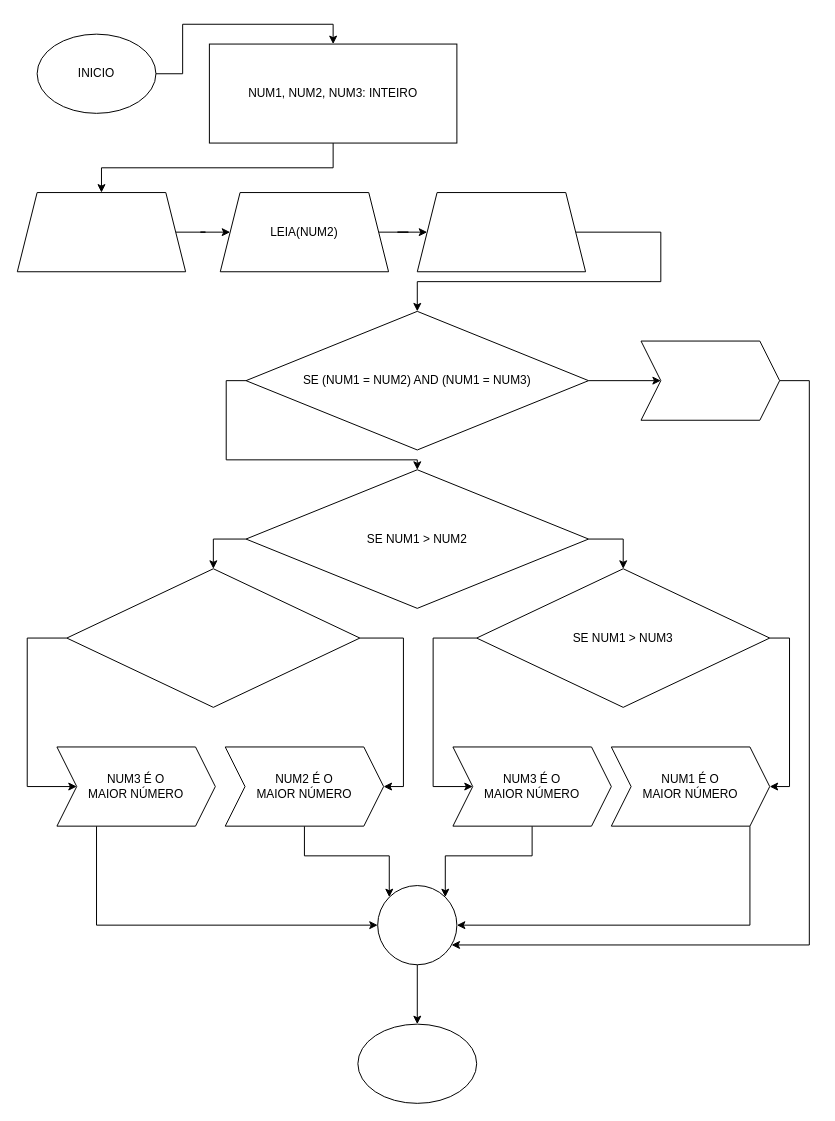
The diagram is 835 pixels wide and 1121 high, and some of its shapes have lost their labels. Each missing label, with the box of its shape:
FIM: (357, 1023, 477, 1103)
LEIA(NUM1): (16, 192, 186, 272)
LEIA(NUM3): (416, 192, 586, 272)
OS NÚMEROS SÃO IGUAIS: (640, 340, 780, 420)
SE NUM2 > NUM3: (66, 568, 360, 707)
